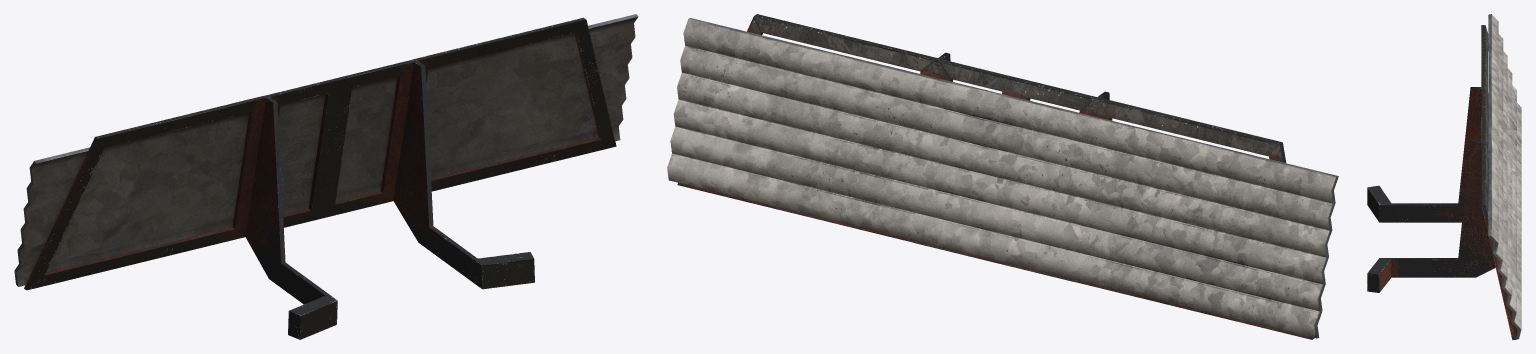
The model's file is C70FrontBumper_WorldItem.fbx.
3 views of the same model, side by side, from view 1: azimuth 30°, elevation 25°; view 2: azimuth 150°, elevation 25°; view 3: azimuth 270°, elevation 25° (orthographic). The views are drawn at different scales.
Parts seen in each view (by area): view 1: FrontBumper_obj; view 2: FrontBumper_obj; view 3: FrontBumper_obj.
Boxes of the visible parts, <box> form: FrontBumper_obj: <box>14,14,638,339</box>; FrontBumper_obj: <box>667,14,1338,339</box>; FrontBumper_obj: <box>1367,14,1521,339</box>.
Bounding box in the file's own units: 3.12 × 0.8825 × 0.9159.
